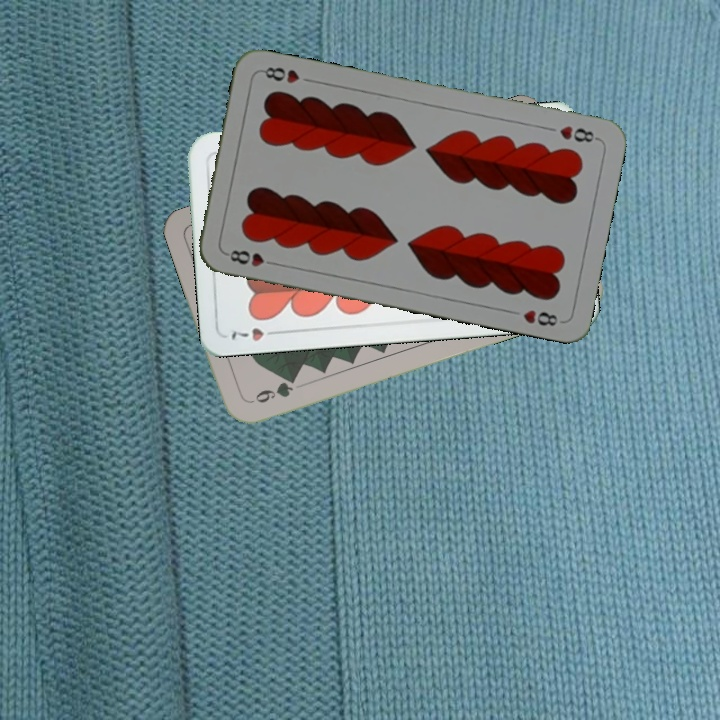G9: (246, 373, 299, 406)
H7: (226, 323, 284, 343)
H8: (222, 245, 280, 269), (555, 121, 601, 145)
